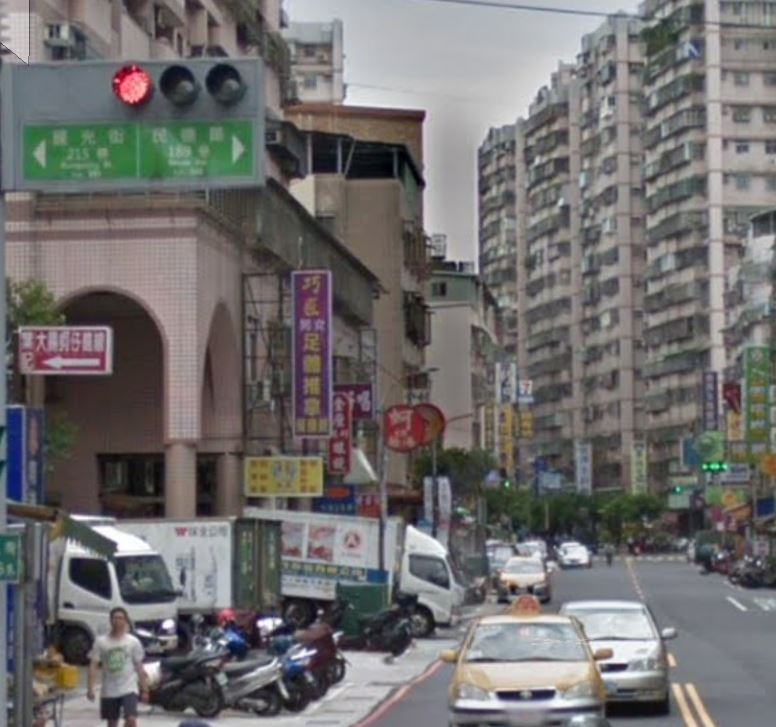Traffic_light_red: (110, 58, 247, 113)
